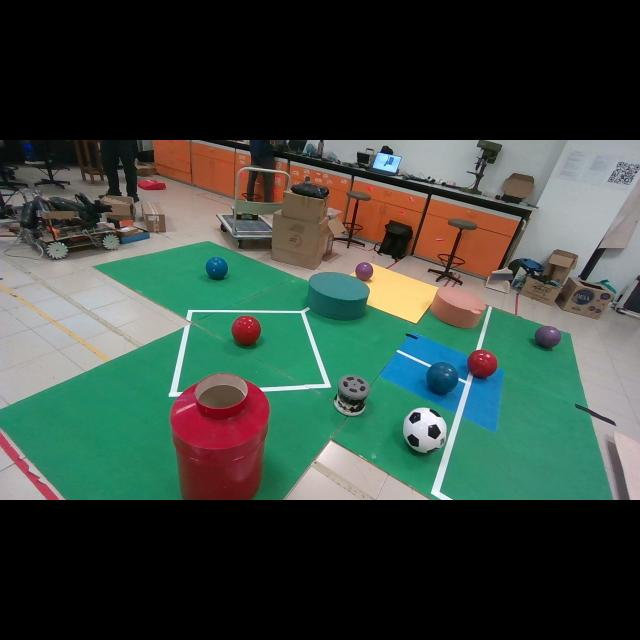B: (426, 362, 459, 394), (205, 258, 228, 280)
P: (535, 326, 560, 348), (355, 262, 374, 281)
R: (468, 349, 498, 378), (231, 315, 261, 344)
